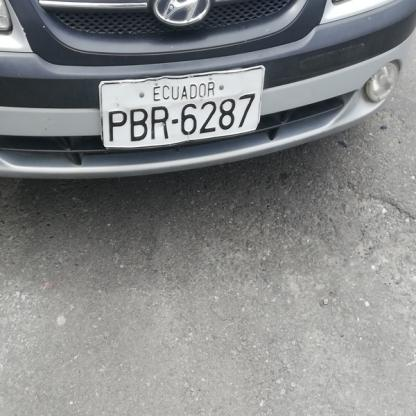Placa: (95, 64, 264, 151)
